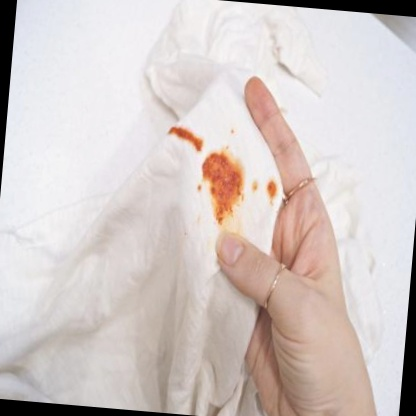kimchi: (197, 150, 247, 218), (167, 121, 210, 151), (262, 179, 283, 202), (250, 178, 262, 193), (224, 142, 234, 153), (181, 226, 192, 236), (193, 180, 202, 192), (231, 125, 237, 130)
